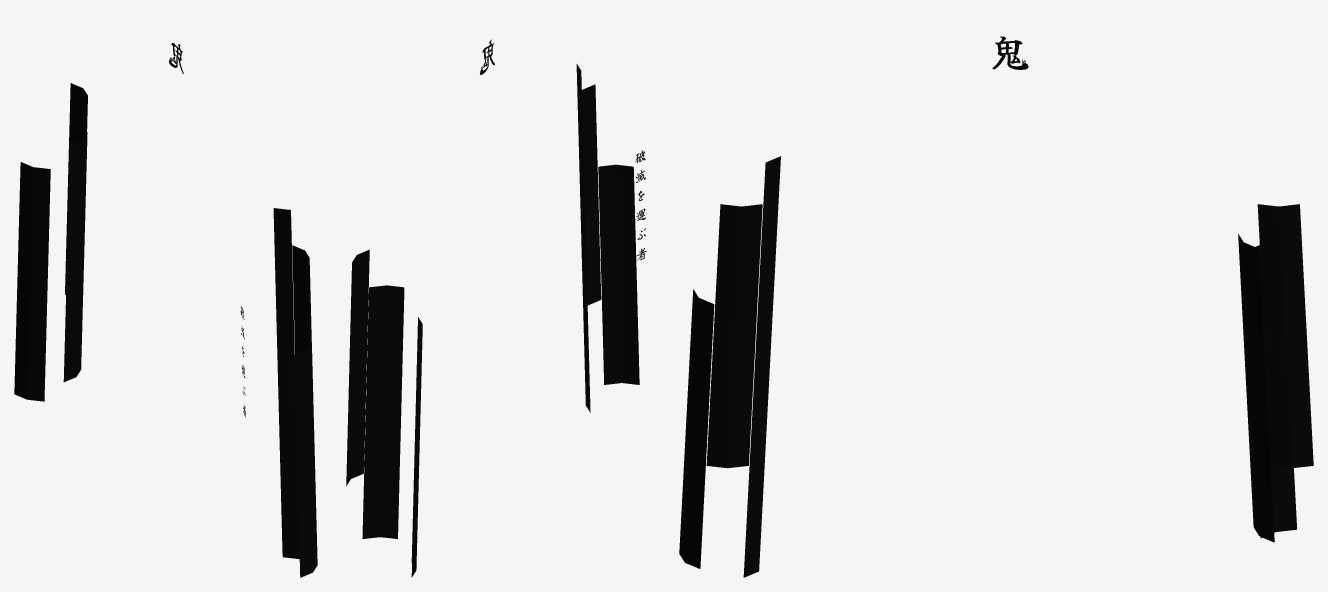
Rendered from Beleidigungen Tori 4.fbx.
3 renders of one model, left to right at view 1: azimuth 30°, elevation 25°; view 2: azimuth 150°, elevation 25°; view 3: azimuth 270°, elevation 25°, orthographic. The views are drawn at different scales.
Visible parts, largest first — view 1: Cylinder.048, Cylinder.043, Cylinder.046, Cylinder.044, Cylinder.045, Cylinder.041, Cylinder.042; view 2: Cylinder.043, Cylinder.046, Cylinder.042, Cylinder.041, Cylinder.048, Cylinder.044, Cylinder.045; view 3: Cylinder.042, Cylinder.041, Cylinder.043, Cylinder.046, Cylinder.044, Cylinder.045, Cylinder.048.
Part boxes in pixels (left/top/right/bottom): Cylinder.048: left=14, top=162, right=50, bottom=401; Cylinder.043: left=63, top=132, right=87, bottom=382; Cylinder.046: left=294, top=343, right=317, bottom=577; Cylinder.044: left=278, top=372, right=299, bottom=558; Cylinder.045: left=273, top=208, right=294, bottom=374; Cylinder.041: left=292, top=245, right=311, bottom=354; Cylinder.042: left=65, top=83, right=87, bottom=294; Cylinder.043: left=362, top=285, right=404, bottom=538; Cylinder.046: left=598, top=164, right=639, bottom=384; Cylinder.042: left=346, top=249, right=369, bottom=485; Cylinder.041: left=582, top=84, right=601, bottom=305; Cylinder.048: left=411, top=317, right=422, bottom=577; Cylinder.044: left=581, top=225, right=590, bottom=412; Cylinder.045: left=576, top=64, right=585, bottom=231; Cylinder.042: left=1257, top=204, right=1313, bottom=468; Cylinder.041: left=706, top=204, right=762, bottom=468; Cylinder.043: left=1238, top=233, right=1274, bottom=542; Cylinder.046: left=679, top=289, right=714, bottom=568; Cylinder.044: left=743, top=351, right=770, bottom=577; Cylinder.045: left=755, top=156, right=780, bottom=357; Cylinder.048: left=1255, top=245, right=1296, bottom=538.
Bounding box in the file's own units: 1.23 × 8.78 × 9.08.
Materials: 9 (9 with a texture image).
